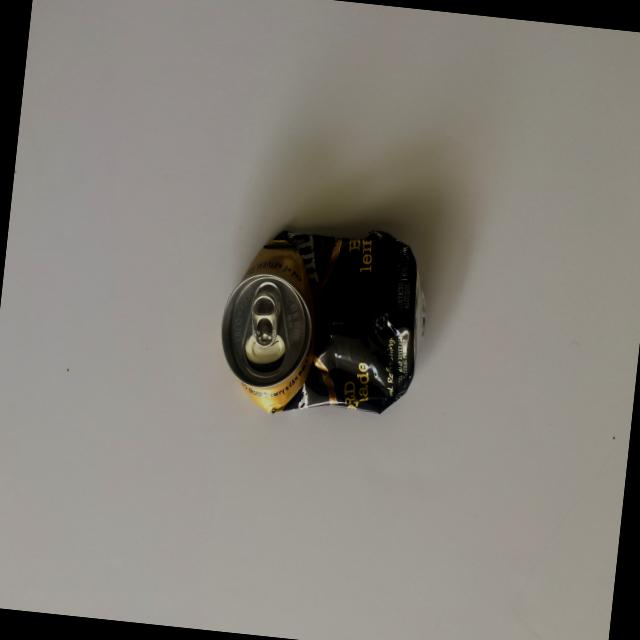Metal: (213, 200, 438, 448)
